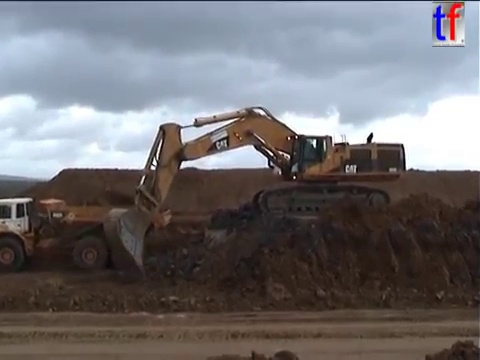excavator: (99, 103, 408, 276)
truck: (1, 195, 173, 274)
